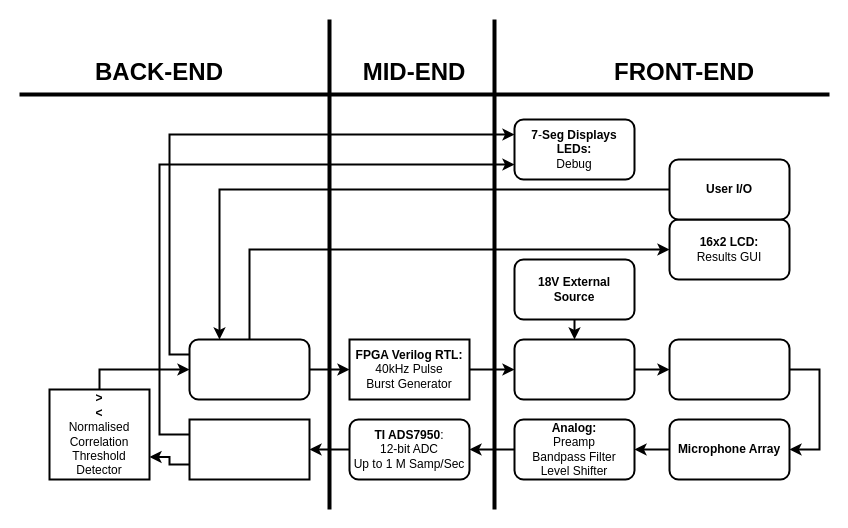
Image size: 848x528. Some labels were removed from this diagram. Here are the shapes that lost their labels. From the top down, the centre of each, then its label:
At (249,369): "NIOS Processor: Operating GUI & Arithmetic".
At (574,369): "L293 H-Bridge Driver".
At (729,369): "Piezo-electric Transmitter".
At (249,449): "FPGA Verilog RTL: Matched Filter (65-Tap FIR)".
